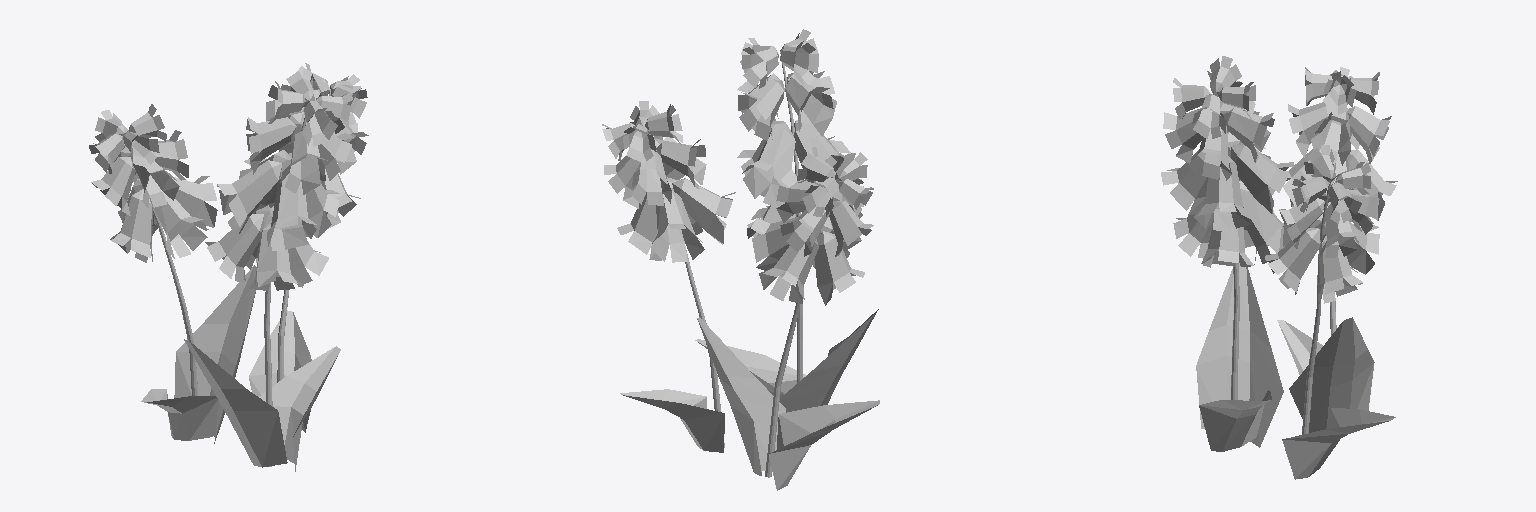
Rendered from Flower_4_Group.obj.
3 views of the same model, side by side, from view 1: azimuth 30°, elevation 25°; view 2: azimuth 150°, elevation 25°; view 3: azimuth 270°, elevation 25° (orthographic).
Visible parts, largest first — view 1: Flower_4_Group; view 2: Flower_4_Group; view 3: Flower_4_Group.
Boxes of the visible parts, box(x1,y1,x2,y2) form: Flower_4_Group: box(89, 63, 368, 471); Flower_4_Group: box(602, 29, 879, 490); Flower_4_Group: box(1161, 56, 1397, 479).
Bounding box in the file's own units: 1.78 × 2.49 × 1.37.